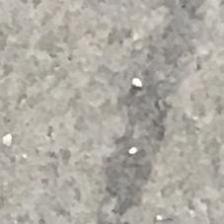Crack: (105, 10, 204, 200)
Non_Crack: (17, 17, 84, 219)
